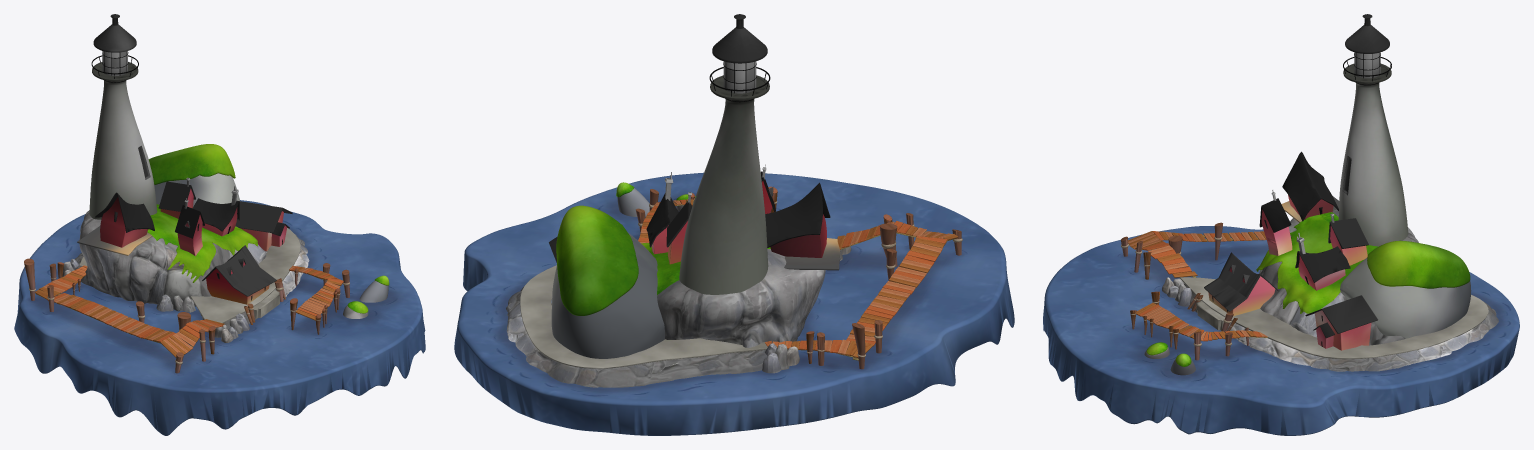
File: Lighthouse on Island.glb
3 renders of one model, left to right at view 1: azimuth 30°, elevation 25°; view 2: azimuth 150°, elevation 25°; view 3: azimuth 270°, elevation 25°, orthographic. The views are drawn at different scales.
Size of the model in its own units: 25.57 by 20.69 by 28.01.
3 materials, 3 textured.
